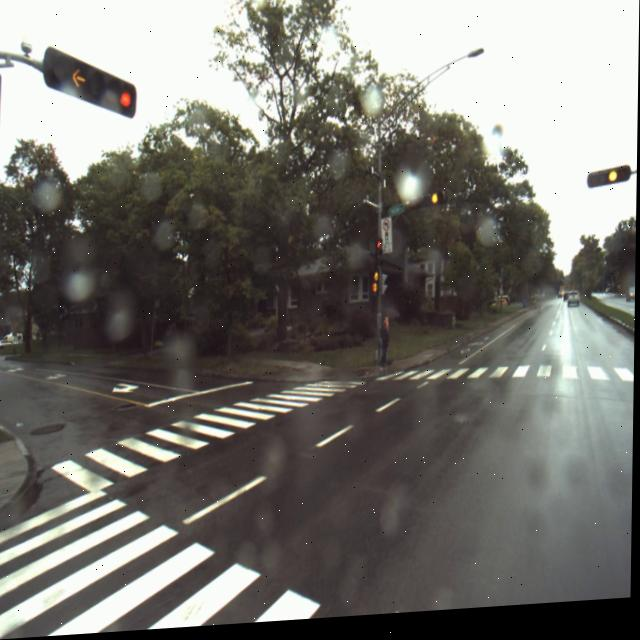car: (98, 78, 138, 120), (567, 297, 582, 318), (376, 242, 383, 265), (626, 296, 636, 312)
pedestrian: (380, 321, 391, 375)
trafficLight: (54, 55, 97, 101), (370, 274, 381, 303), (606, 176, 621, 194), (428, 199, 443, 211)
